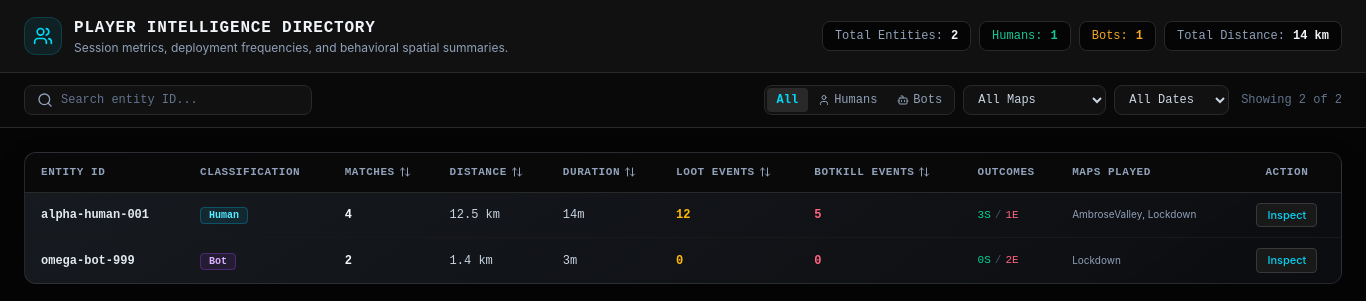
Test: PlayerIntelligencePage › filters entities by Human or Bot type
The image size is (1366, 301).
Expected: the text "alpha-human-001" is shown, [25,192,188,238]
// Filter to Bots only — button accessible by role name
Click the button "Bots" at (920, 100), box [887,88,952,112]
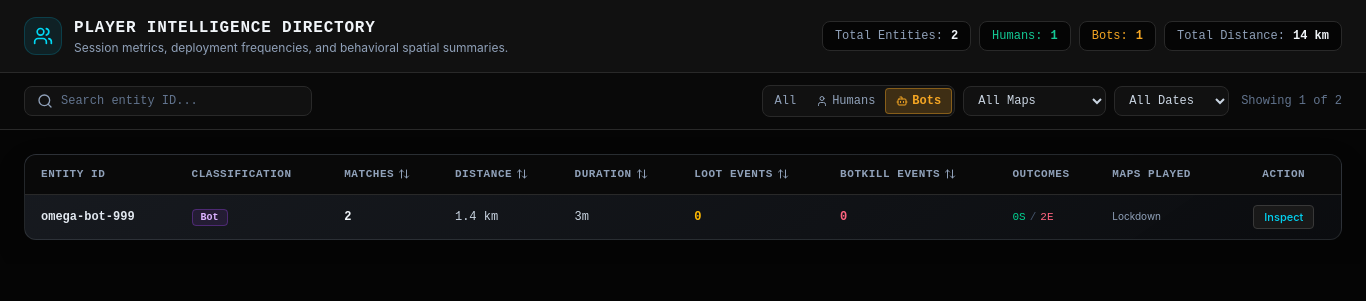
Expected: the text "omega-bot-999" is shown, [25,194,180,239]
Result: the text "alpha-human-001" is gone
// Filter to Humans only
Click the button "Humans" at (846, 101), box [806,89,885,113]
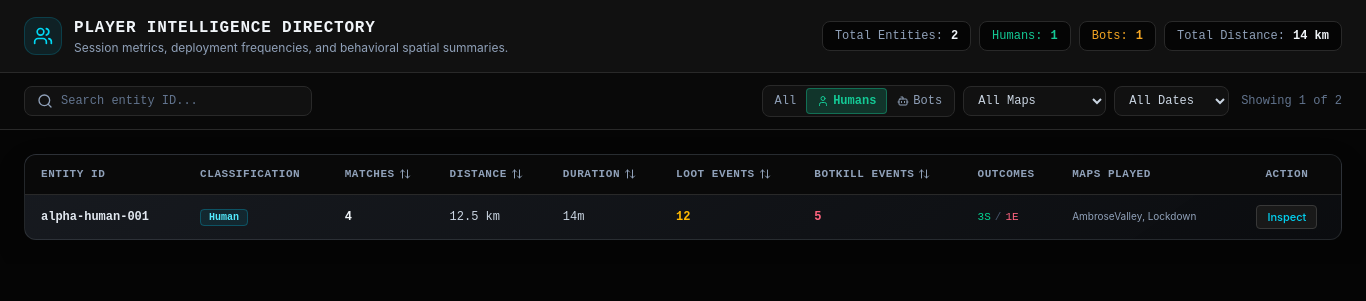
Result: the text "alpha-human-001" is shown at [25,194,188,239]
Result: the text "omega-bot-999" is gone
